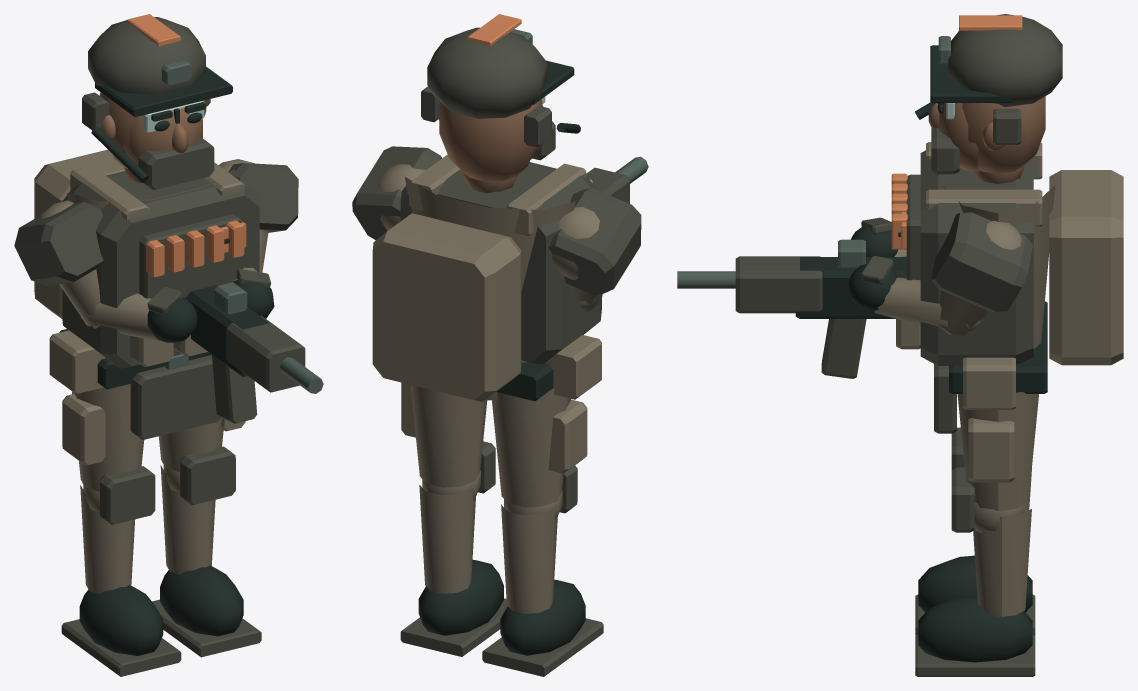
Rendered from breacher.glb.
3 views of the same model, side by side, from view 1: azimuth 30°, elevation 25°; view 2: azimuth 150°, elevation 25°; view 3: azimuth 270°, elevation 25° (orthographic). The views are drawn at different scales.
Visible parts, largest first — view 1: Torso_details (×4), Head_details (×3), Carbine_details (×3), Boot (×2), ShoulderPlate (×2), Calf (×2), LegL_details, ShinL_details, ShinR_details, Glove (×2), LegR_details, ForearmL_details (+4 smaller); view 2: Torso_details (×3), Head_details (×3), Calf (×2), LegL_details, ShoulderPlate (×2), Boot (×2), LegR_details, ShinL_details, ShinR_details, ArmL_details, Carbine_details (×2), ArmR_details (+2 smaller); view 3: Torso_details (×4), Head_details (×3), Carbine_details (×3), Boot (×2), LegR_details, ShoulderPlate, Calf, ShinR_details, Glove (×2), ForearmR_details, ArmR_details, HelmetMarker (+2 smaller).
Boxes of the visible parts, x1,y1,x2,y2 form: Torso_details (×4): [34, 149, 259, 439]; Head_details (×3): [82, 17, 232, 189]; Carbine_details (×3): [186, 282, 323, 423]; Boot (×2): [79, 565, 243, 655]; ShoulderPlate (×2): [14, 163, 298, 285]; Calf (×2): [80, 465, 215, 593]; LegL_details: [62, 384, 144, 512]; ShinL_details: [61, 466, 181, 676]; ShinR_details: [152, 446, 261, 657]; Glove (×2): [147, 280, 274, 342]; LegR_details: [158, 418, 245, 493]; ForearmL_details: [78, 293, 161, 341]; Torso_details (×3): [372, 154, 601, 401]; Head_details (×3): [421, 27, 580, 181]; Calf (×2): [419, 485, 557, 613]; LegL_details: [492, 388, 587, 520]; ShoulderPlate (×2): [352, 146, 641, 295]; Boot (×2): [418, 560, 585, 655]; LegR_details: [401, 382, 487, 500]; ShinL_details: [482, 465, 603, 676]; ShinR_details: [400, 441, 507, 656]; ArmL_details: [552, 206, 602, 311]; Carbine_details (×2): [586, 156, 648, 203]; ArmR_details: [378, 164, 425, 230]; Torso_details (×4): [891, 142, 1123, 433]; Head_details (×3): [915, 14, 1062, 174]; Carbine_details (×3): [677, 239, 906, 378]; Boot (×2): [918, 555, 1032, 662]; LegR_details: [957, 392, 1038, 533]; ShoulderPlate: [931, 212, 1032, 312]; Calf: [973, 509, 1031, 616]; ShinR_details: [915, 467, 1035, 676]; Glove (×2): [848, 226, 897, 310]; ForearmR_details: [874, 277, 981, 334]; ArmR_details: [937, 221, 1021, 335]; HelmetMarker: [959, 15, 1022, 30].
Size of the model in its own units: 0.866 by 1.96 by 1.26.
